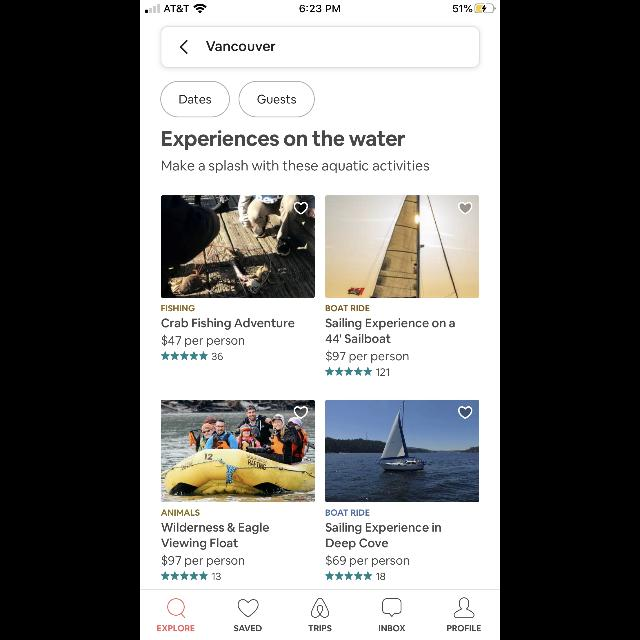icon: (454, 598, 474, 618), (326, 572, 372, 580), (162, 572, 208, 580), (326, 367, 372, 375), (162, 352, 208, 360), (382, 598, 402, 616), (238, 599, 258, 617), (168, 598, 185, 618), (458, 407, 472, 419), (294, 407, 308, 419), (458, 202, 472, 214), (294, 202, 308, 214), (180, 40, 188, 54)
image: (326, 400, 478, 502), (162, 400, 314, 502), (326, 196, 478, 298), (162, 196, 314, 298), (311, 598, 329, 618)
input: (161, 27, 479, 68)
text: (162, 130, 406, 150), (162, 160, 430, 174), (162, 318, 294, 330), (326, 318, 454, 330), (326, 522, 440, 534), (162, 522, 268, 534), (326, 554, 409, 568), (162, 555, 244, 567), (326, 351, 408, 363), (162, 335, 244, 347), (162, 538, 238, 550), (326, 538, 388, 550), (207, 42, 276, 52), (326, 334, 390, 344), (326, 509, 370, 515), (326, 306, 370, 312), (162, 510, 200, 516), (158, 625, 195, 631), (448, 625, 480, 631), (162, 305, 194, 311), (234, 625, 262, 631), (379, 625, 405, 631), (308, 625, 332, 631), (376, 368, 389, 376), (212, 354, 224, 361), (376, 572, 386, 580), (212, 572, 220, 580)
textbutton: (239, 81, 315, 117), (160, 81, 230, 117)
uppertaskbar: (140, 0, 500, 14)
